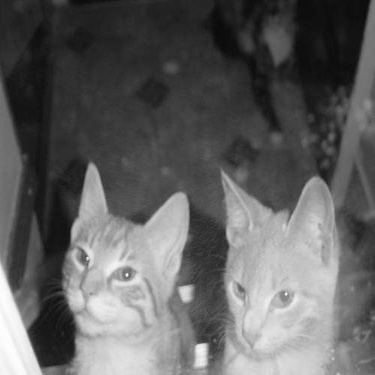cat: (60, 164, 193, 370), (216, 170, 342, 373)
